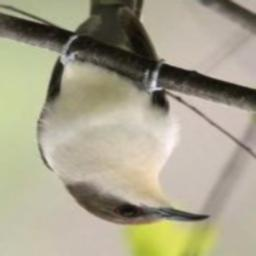Cuckoo: (35, 0, 212, 227)
